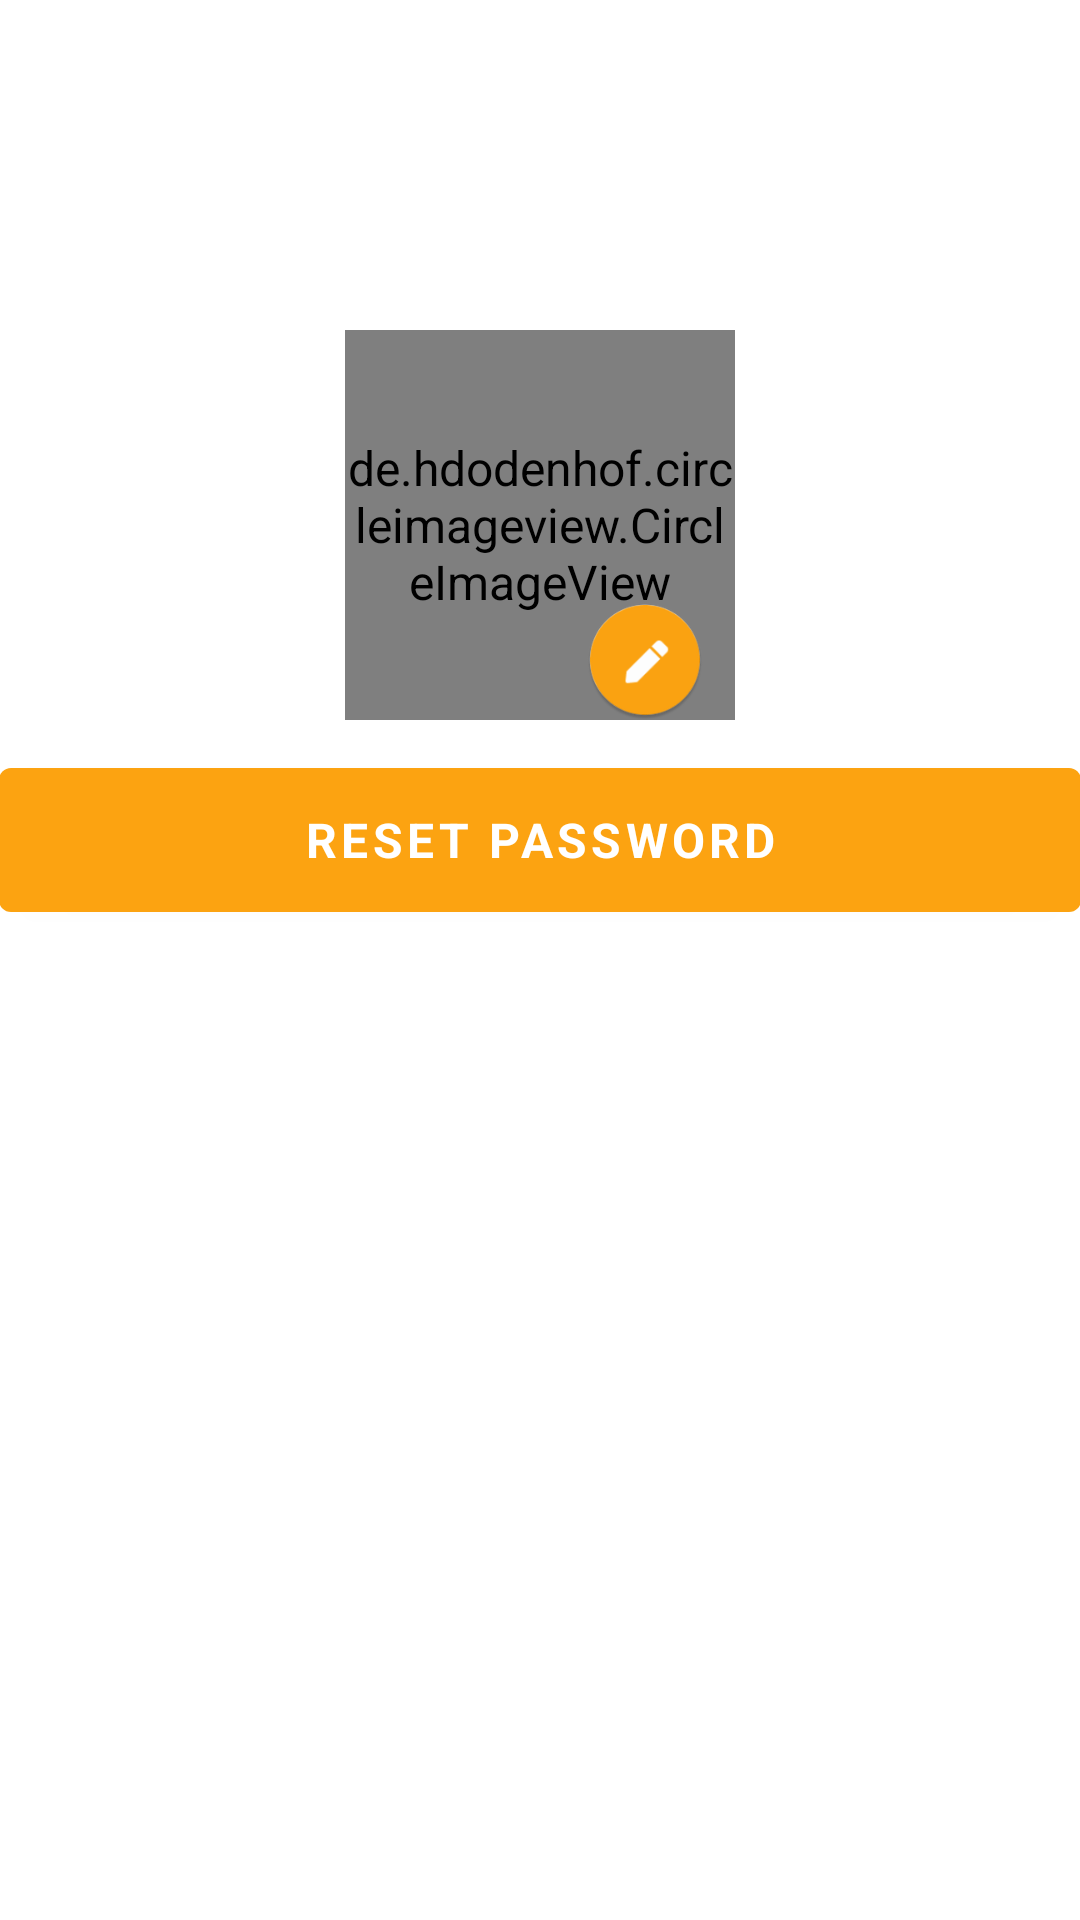

Icons on this 1080×1920 Android screen, each with its box as [x1=x1, y1=y1, x2=x2, y2=y2]:
Edit pencil: [x1=590, y1=605, x2=700, y2=716]
